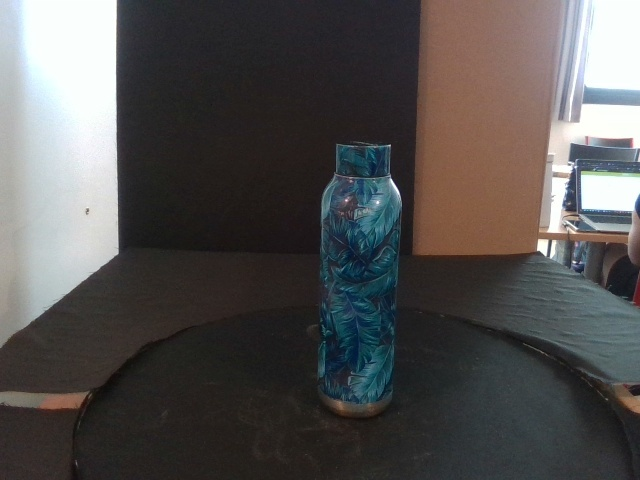bottle: (319, 141, 402, 413)
